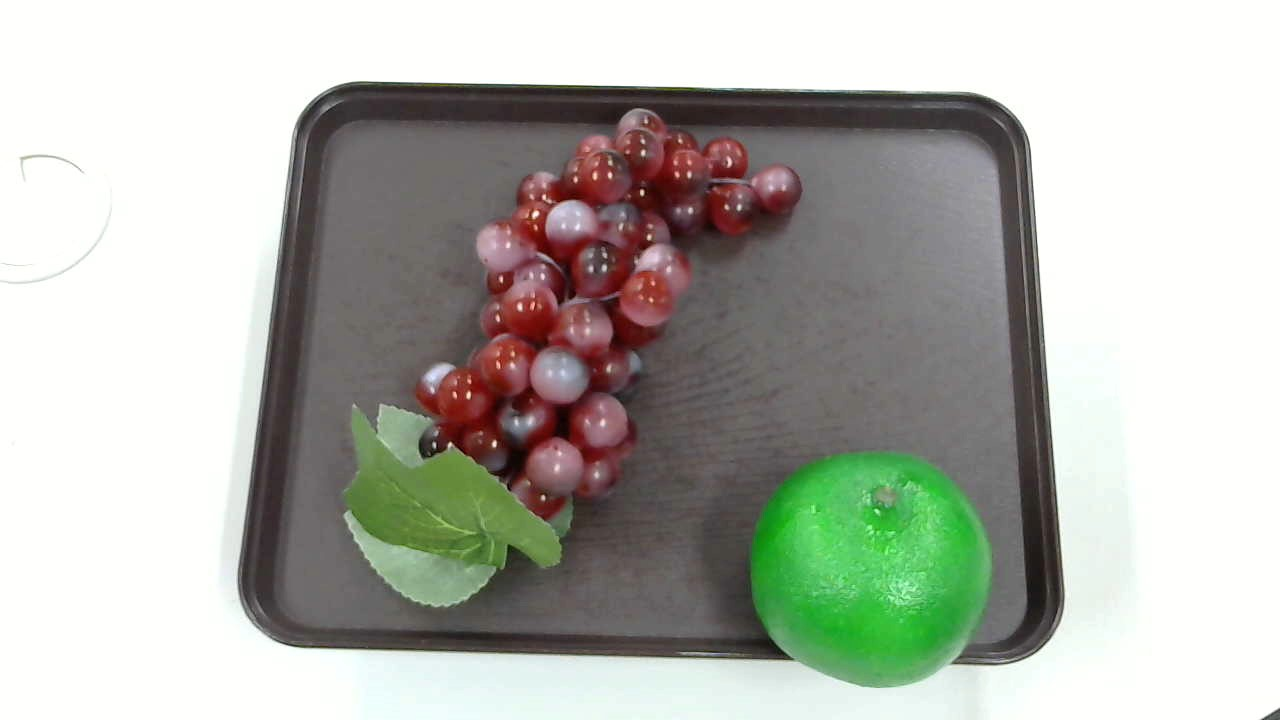grape: (335, 102, 810, 605)
green orange: (751, 456, 993, 693)
